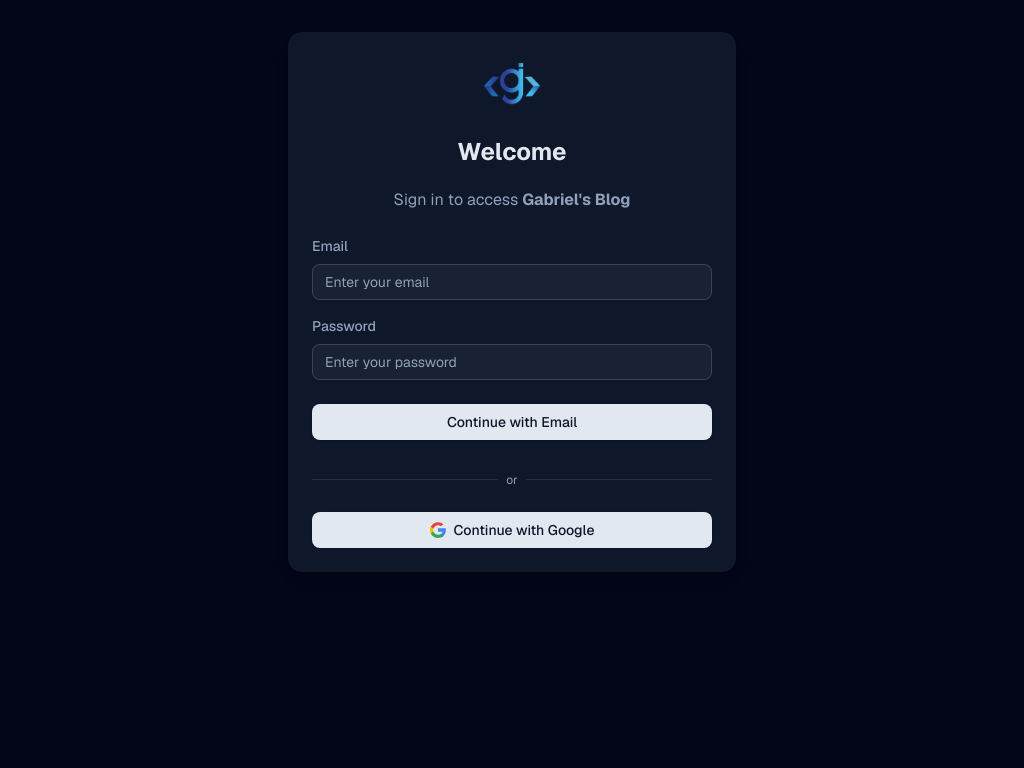
Test case: LoginPage › shows error modal if signInWithEmail fails
Type "test@email.com" into the field labelled "Email" at (512, 282), box left=312, top=264, right=712, bottom=300
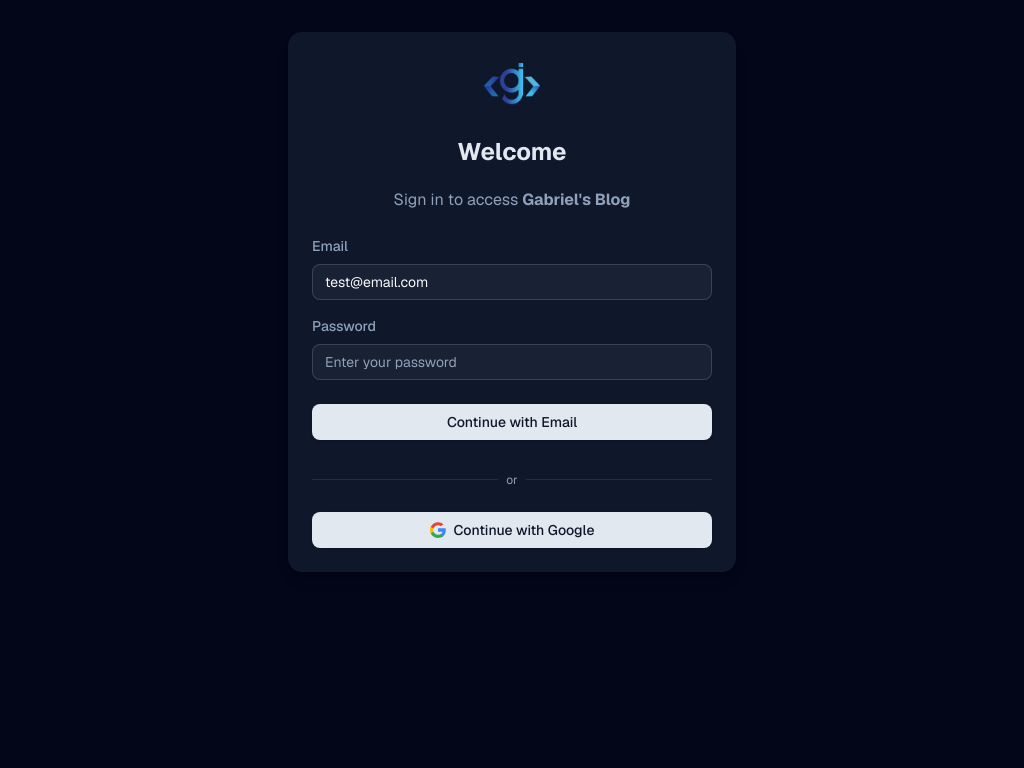
Type "password123" into the password field labelled "Password" at (512, 362), box left=312, top=344, right=712, bottom=380
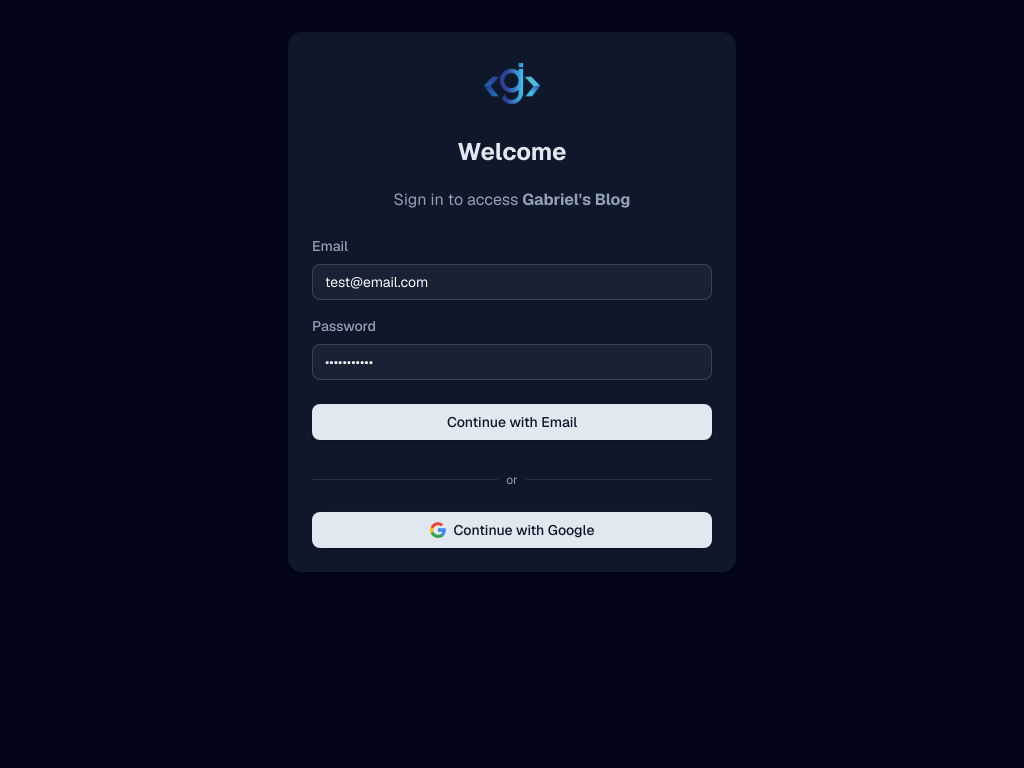
Click the button with aria-label "Sign in or Sign up with Email" at (512, 422), box left=312, top=404, right=712, bottom=440
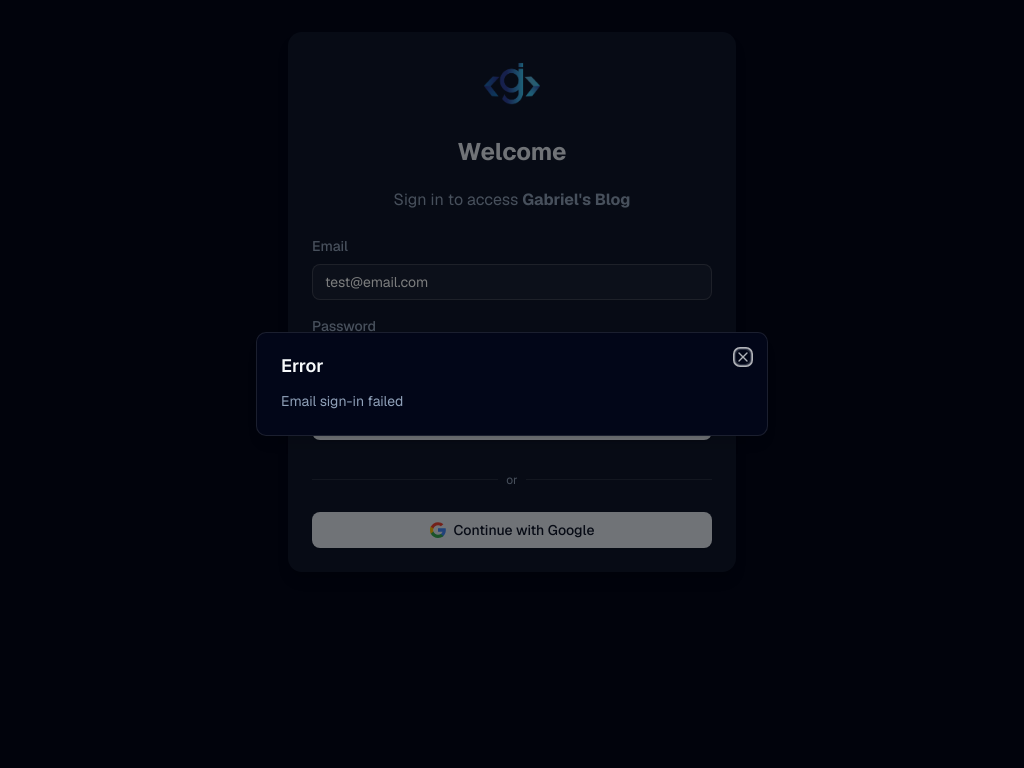
Now the text "Email sign-in failed" is shown, box left=281, top=392, right=403, bottom=410
